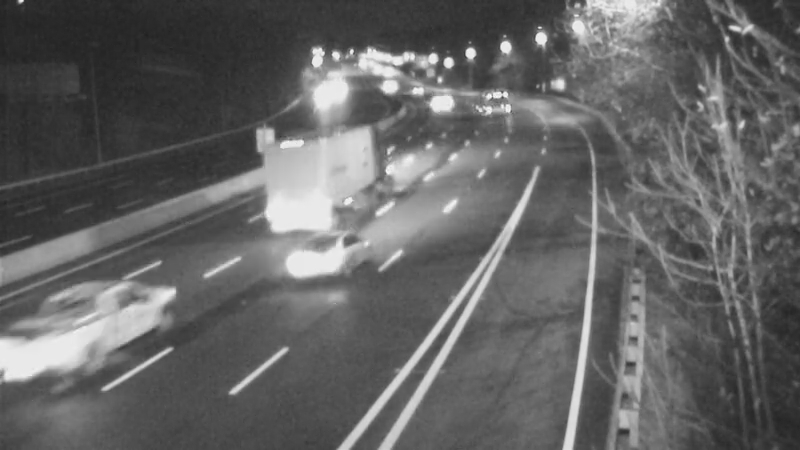vehicle: (2, 284, 112, 394), (297, 130, 377, 210), (279, 213, 359, 293), (361, 60, 411, 110), (393, 67, 443, 117), (465, 72, 515, 122), (416, 80, 466, 130), (296, 71, 346, 121)
